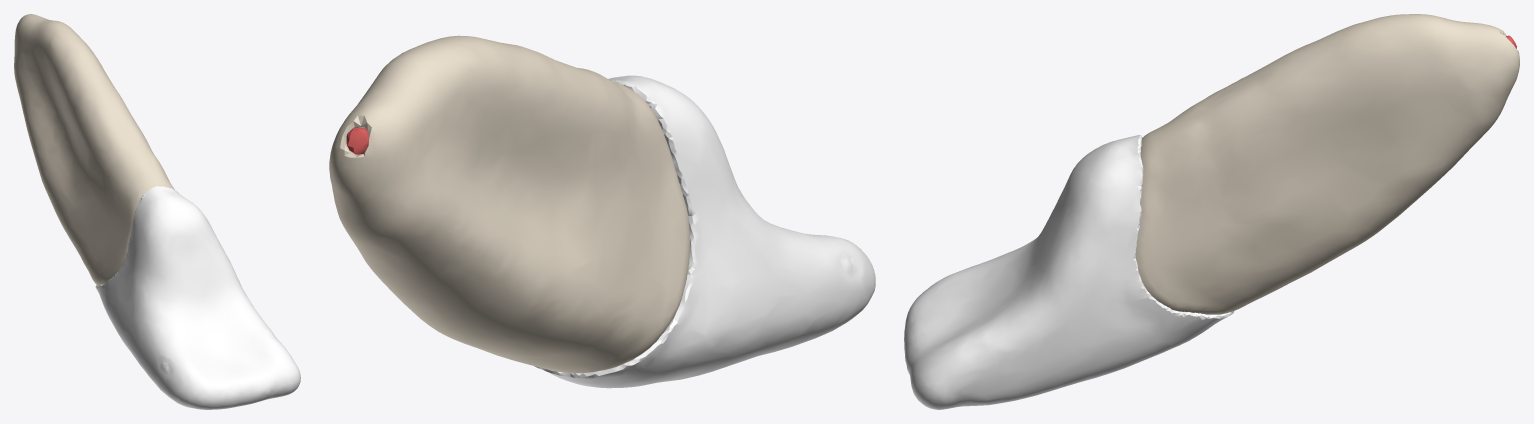
File: 恒牙下颌切牙.fbx
3 views of the same model, side by side, from view 1: azimuth 30°, elevation 25°; view 2: azimuth 150°, elevation 25°; view 3: azimuth 270°, elevation 25° (orthographic). The views are drawn at different scales.
Visible parts, largest first — view 1: texture_W, texture_B; view 2: texture_B, texture_W, texture_S; view 3: texture_B, texture_W.
Boxes of the visible parts, x1=… form: texture_W: x1=95, y1=186, x2=300, y2=409; texture_B: x1=14, y1=14, x2=174, y2=285; texture_B: x1=329, y1=35, x2=689, y2=373; texture_W: x1=534, y1=75, x2=875, y2=388; texture_S: x1=346, y1=127, x2=369, y2=154; texture_B: x1=1135, y1=14, x2=1519, y2=314; texture_W: x1=904, y1=135, x2=1233, y2=409.
Bounding box in the file's own units: 7.8 × 15.13 × 23.7.
Materials: 3 (3 with a texture image).
